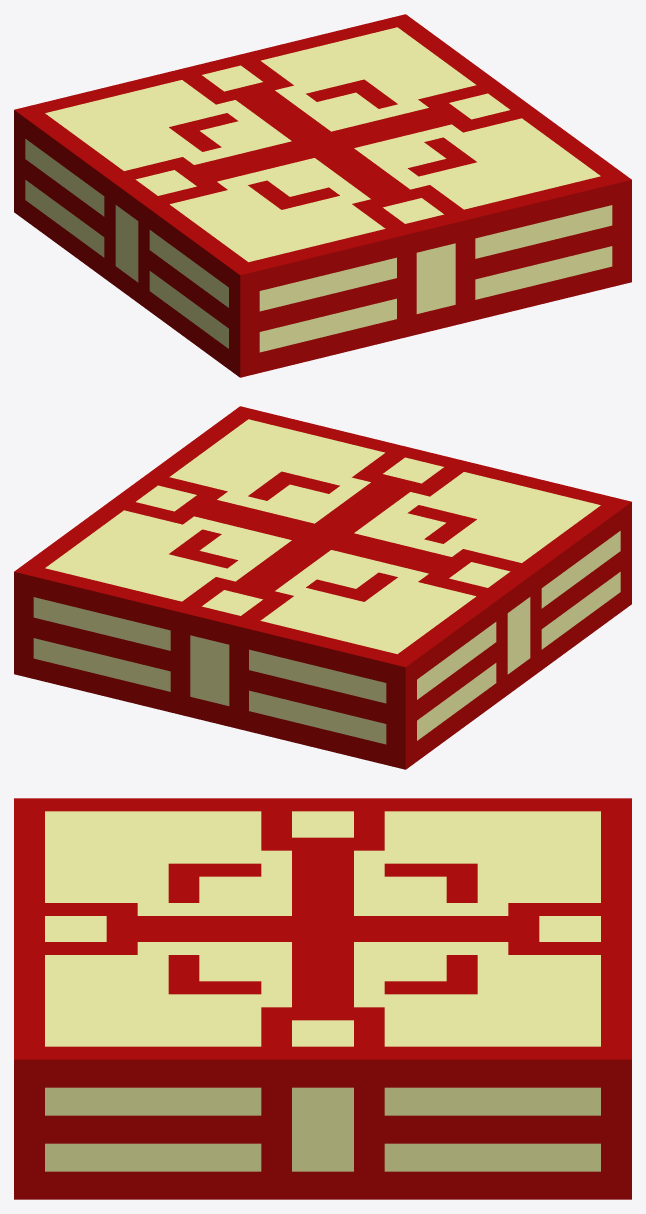
Rendered from CaminoValhallaEsp.obj.
3 renders of one model, top to bottom at view 1: azimuth 30°, elevation 25°; view 2: azimuth 150°, elevation 25°; view 3: azimuth 270°, elevation 25°, orthographic. The views are drawn at different scales.
Size of the model in its own units: 2 by 0.5 by 2.
Materials: 1 (1 with a texture image).
